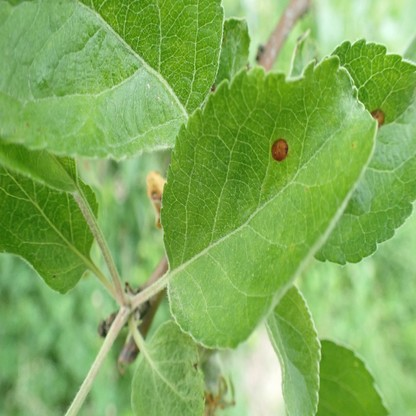frogeye: (272, 140, 289, 162), (371, 109, 384, 126)
